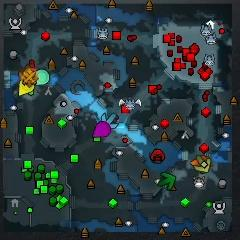Other: (19, 68, 38, 87)
p2: (34, 69, 50, 85)
p3: (92, 121, 111, 138)
p4: (18, 80, 35, 96)
p5: (190, 155, 207, 167)
x2: (194, 155, 211, 173)
x3: (101, 112, 118, 129)
x4: (159, 172, 176, 190)
x5: (18, 64, 30, 77)
